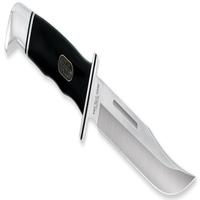knife: (4, 4, 197, 198)
